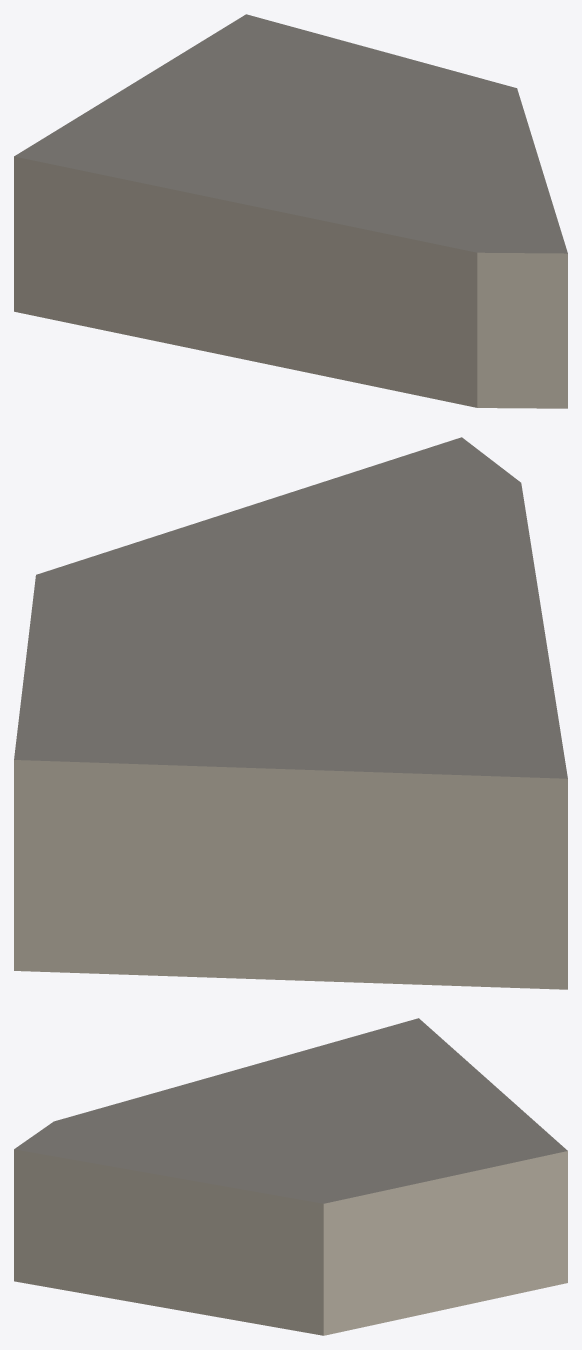
3 renders of one model, top to bottom at view 1: azimuth 30°, elevation 25°; view 2: azimuth 150°, elevation 25°; view 3: azimuth 270°, elevation 25°, orthographic. The views are drawn at different scales.
Parts seen in each view (by area): view 1: HP-w369342591; view 2: HP-w369342591; view 3: HP-w369342591.
Boxes of the visible parts, left/top/right/bottom form: HP-w369342591: left=14, top=14, right=567, bottom=408; HP-w369342591: left=14, top=437, right=567, bottom=989; HP-w369342591: left=14, top=1018, right=567, bottom=1335.
Bounding box in the file's own units: 54.27 × 18 × 68.44.
